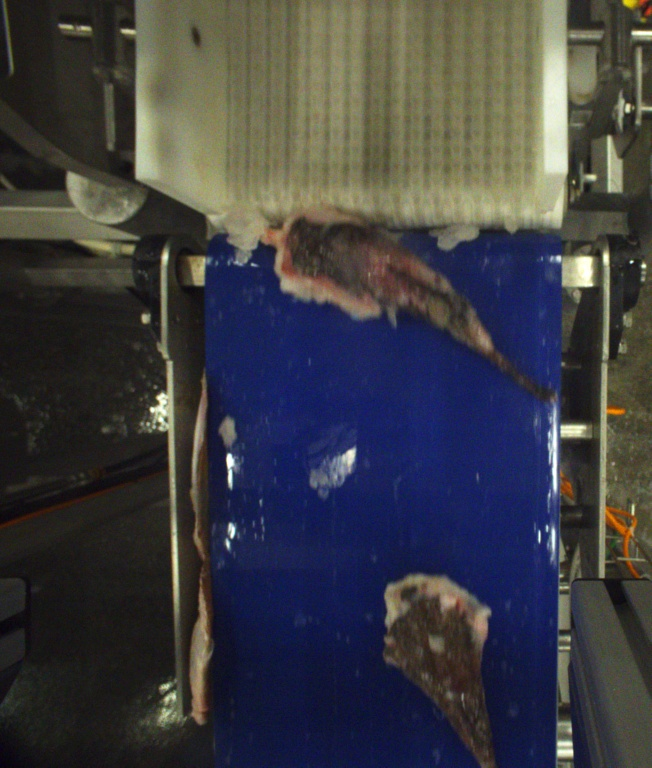ANF: (384, 575, 499, 768)
